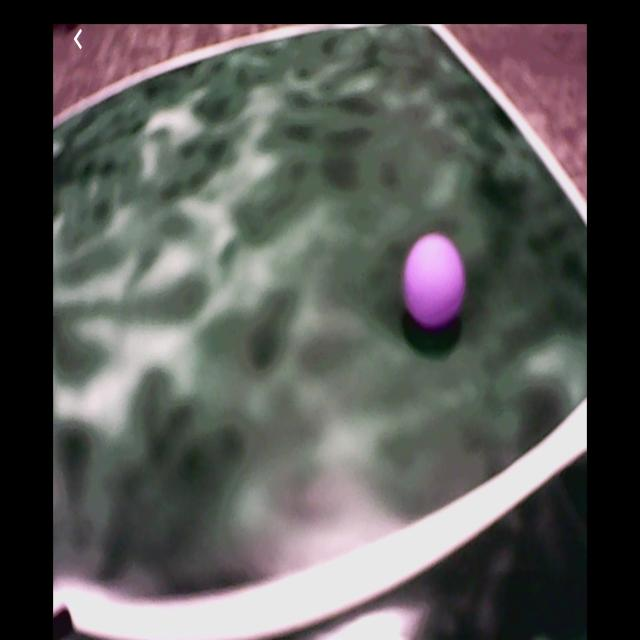ball: (403, 231, 467, 331)
